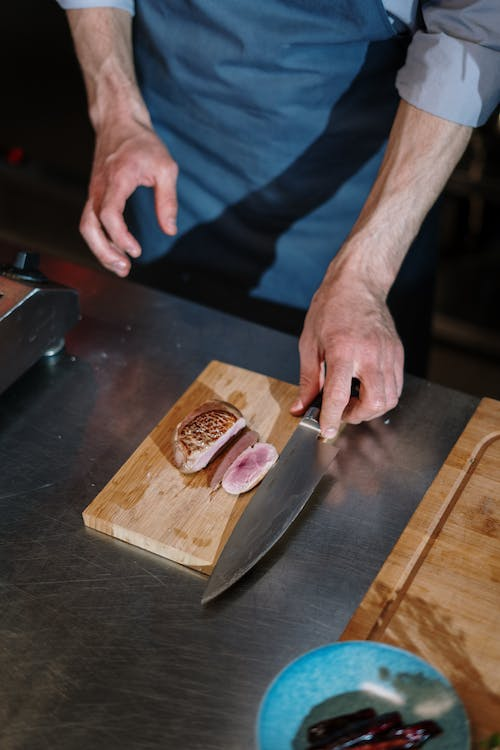knife: (196, 384, 343, 606)
